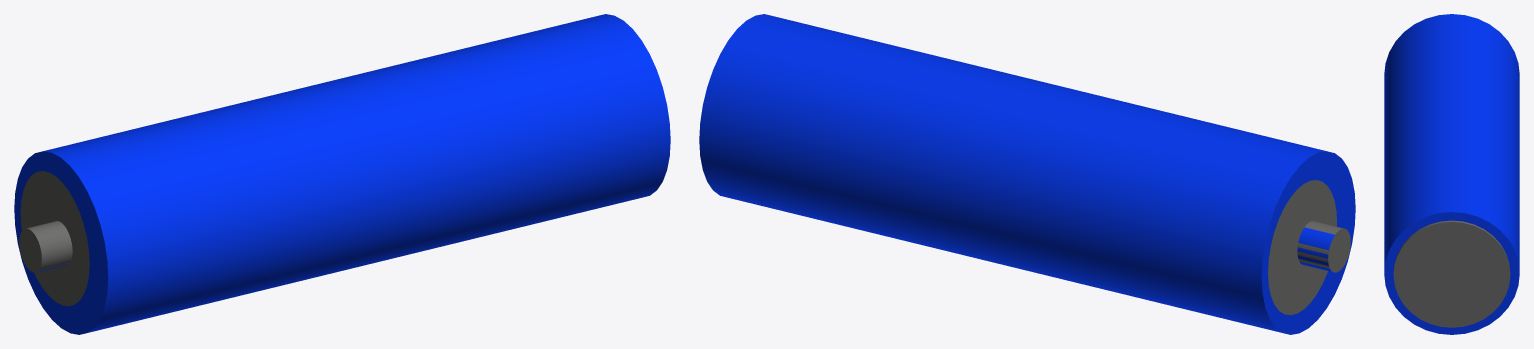
Rendered from battery.fbx.
3 renders of one model, left to right at view 1: azimuth 30°, elevation 25°; view 2: azimuth 150°, elevation 25°; view 3: azimuth 270°, elevation 25°, orthographic. The views are drawn at different scales.
Visible parts, largest first — view 1: BatteryBox.002; view 2: BatteryBox.002; view 3: BatteryBox.002.
Part boxes in pixels (x1,y1,x2,y2): BatteryBox.002: (14,14,670,334); BatteryBox.002: (699,14,1355,334); BatteryBox.002: (1384,14,1519,334).
Bounding box in the file's own units: 64.69 × 17.64 × 17.64.
